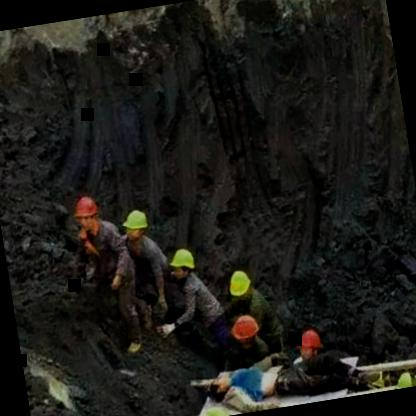helmet: (224, 310, 264, 352), (70, 192, 102, 236), (292, 325, 326, 366), (167, 245, 200, 285), (121, 206, 152, 248), (223, 264, 254, 306)
